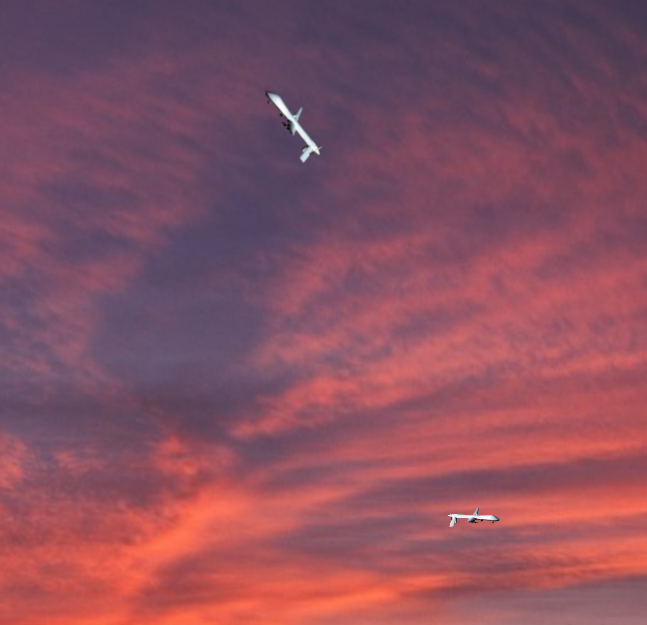military drone: (265, 90, 322, 162), (447, 507, 500, 527)
